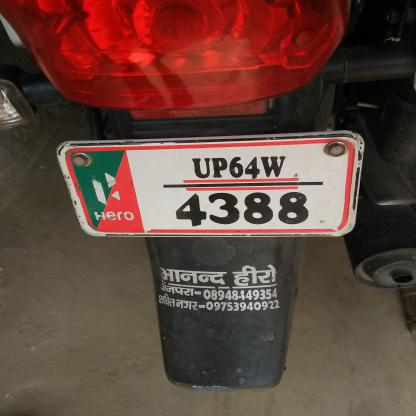Number_Plate_Detected: (134, 131, 358, 239)
